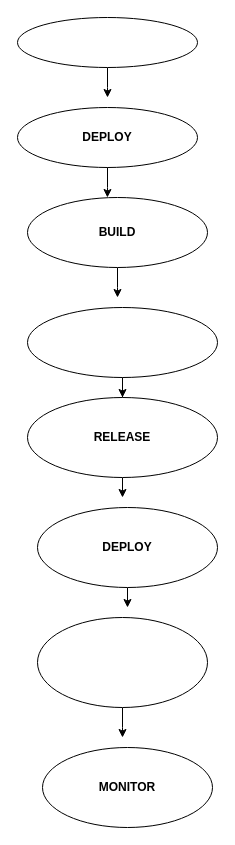
Some shapes in this 235 by 845 pixel diagram are drawn without their labels. Each missing label, with the centre of its shape:
"OPERATE" goes at pixel 122 662.
"PLAN" goes at pixel 107 42.
"TESTING" goes at pixel 122 342.
